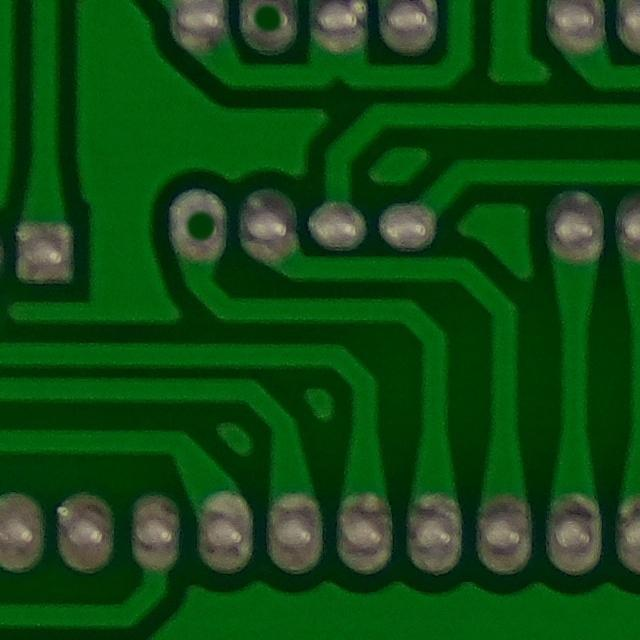missing_hole: (161, 182, 231, 267), (225, 0, 307, 60)
